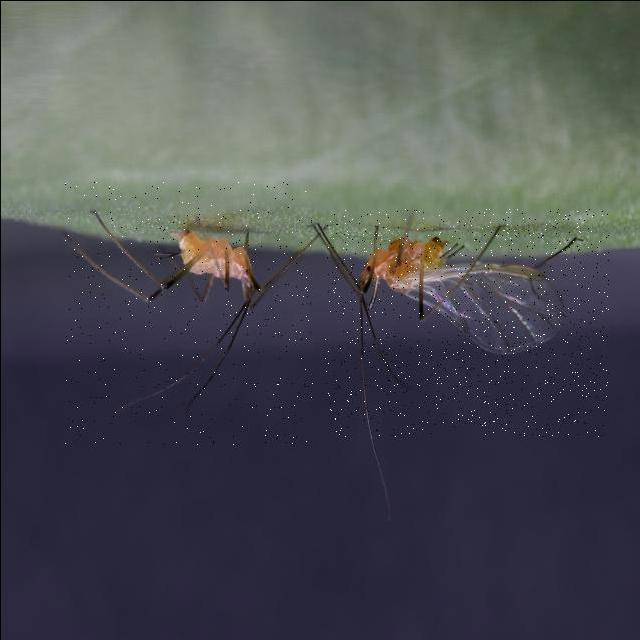aphid: (64, 181, 312, 444), (324, 208, 608, 436)
